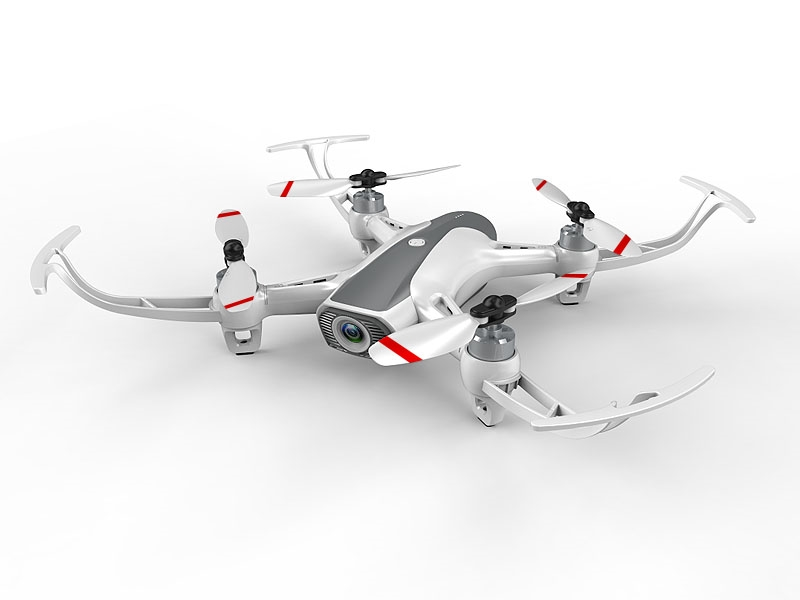drone: (24, 130, 763, 445)
